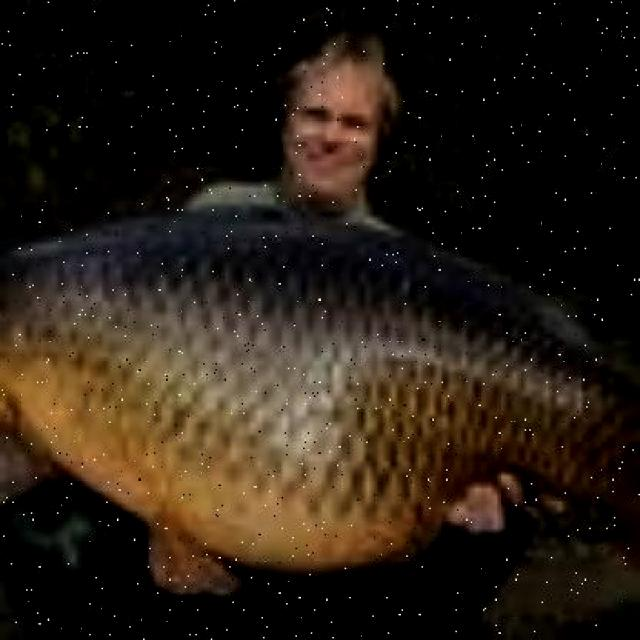ikan-mas: (0, 198, 637, 580)
